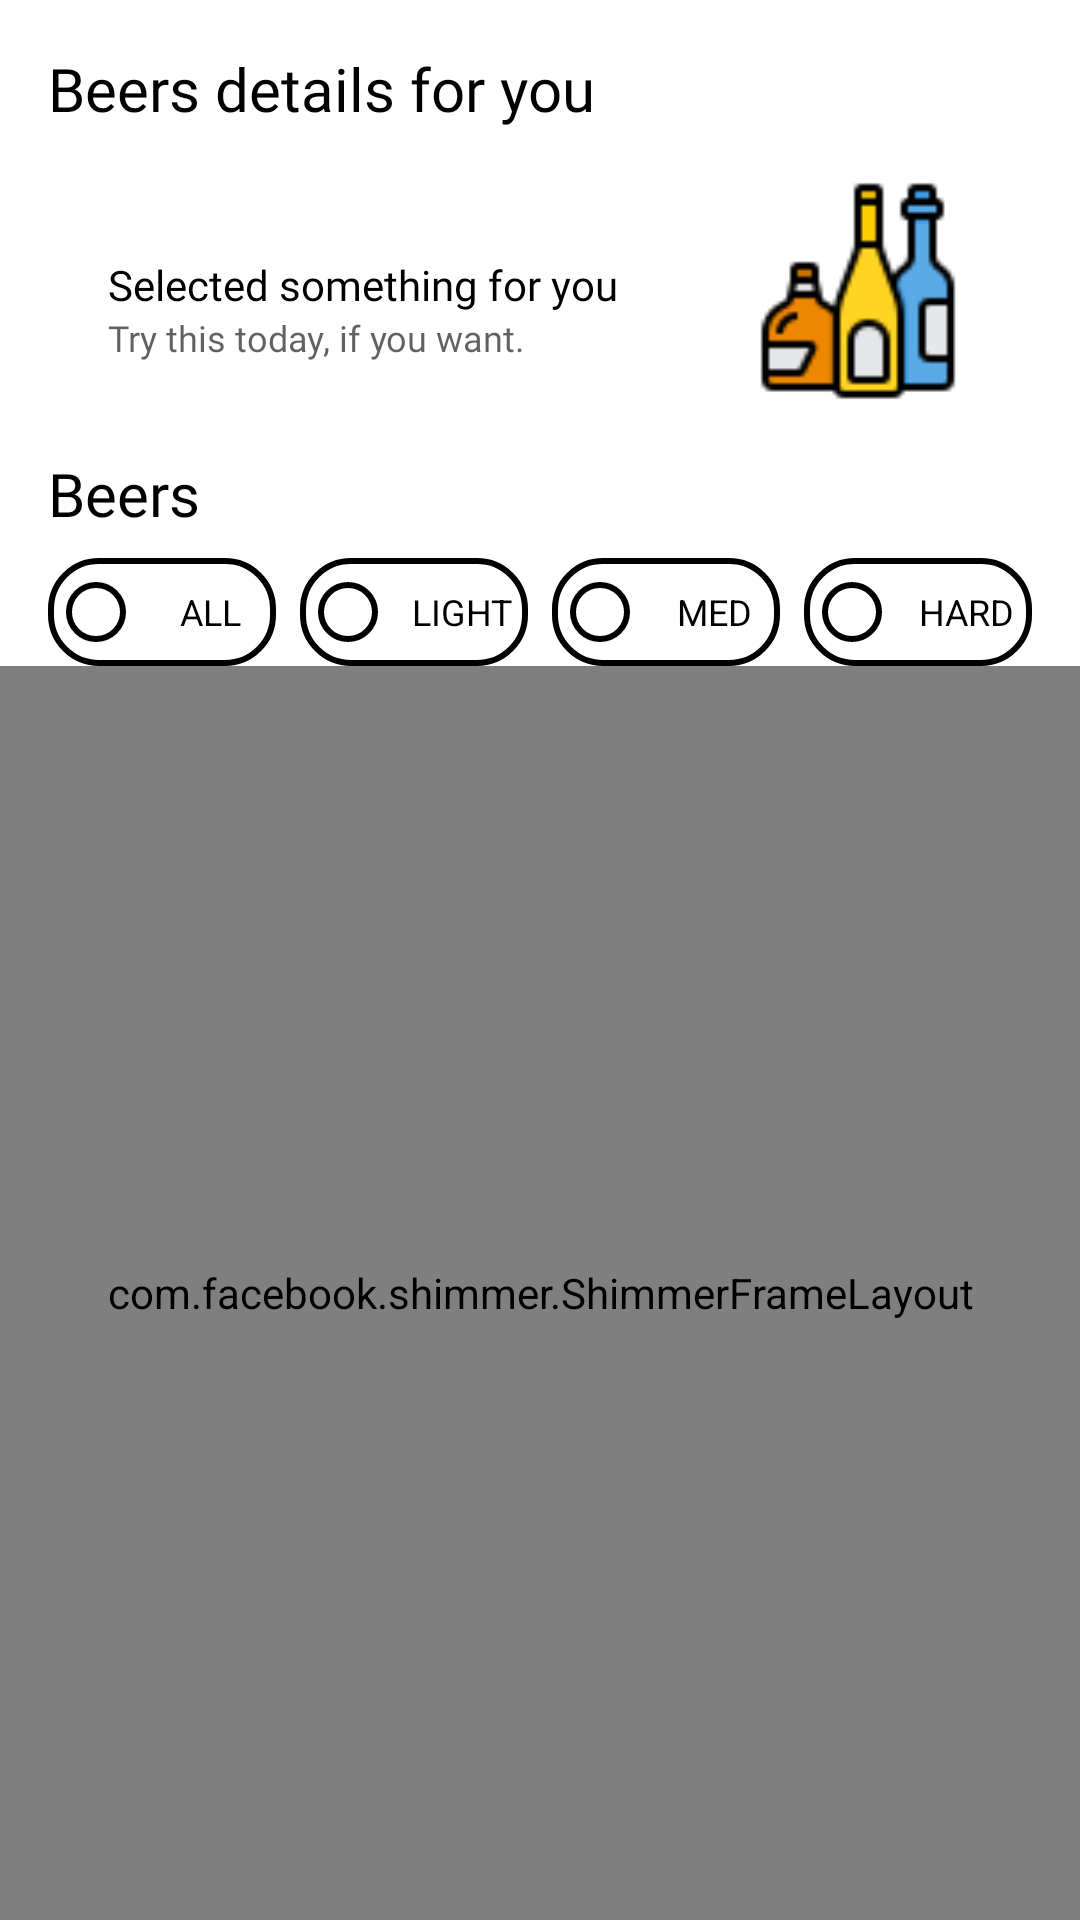

Locate icon controls on the screen. Image size 1080*1920, boxes as (x1, y1, x2, y2).
alcoholic drink: (760, 183, 956, 399)
